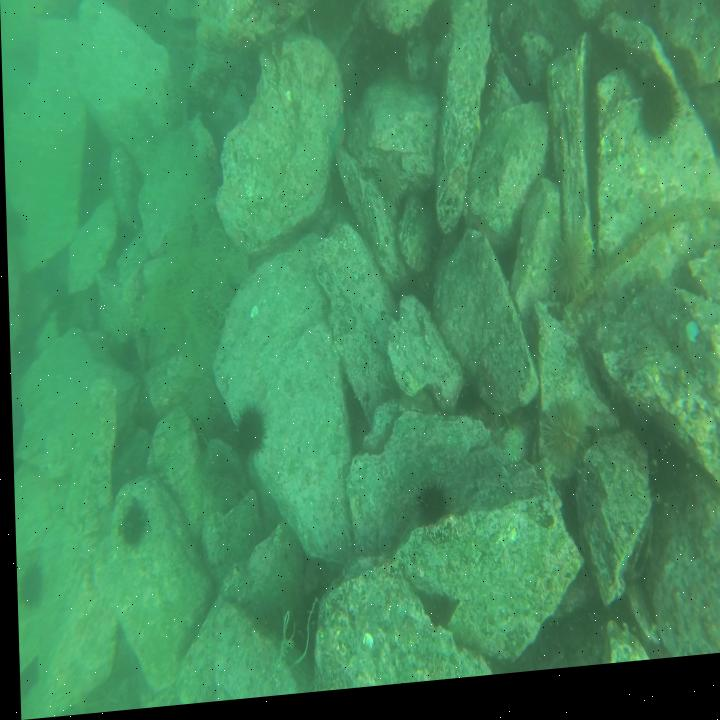echinus: (541, 407, 584, 485), (547, 241, 590, 308), (640, 97, 675, 153), (231, 409, 264, 465), (116, 501, 145, 554), (414, 488, 447, 534), (16, 565, 41, 610)
starfish: (327, 123, 346, 173)
